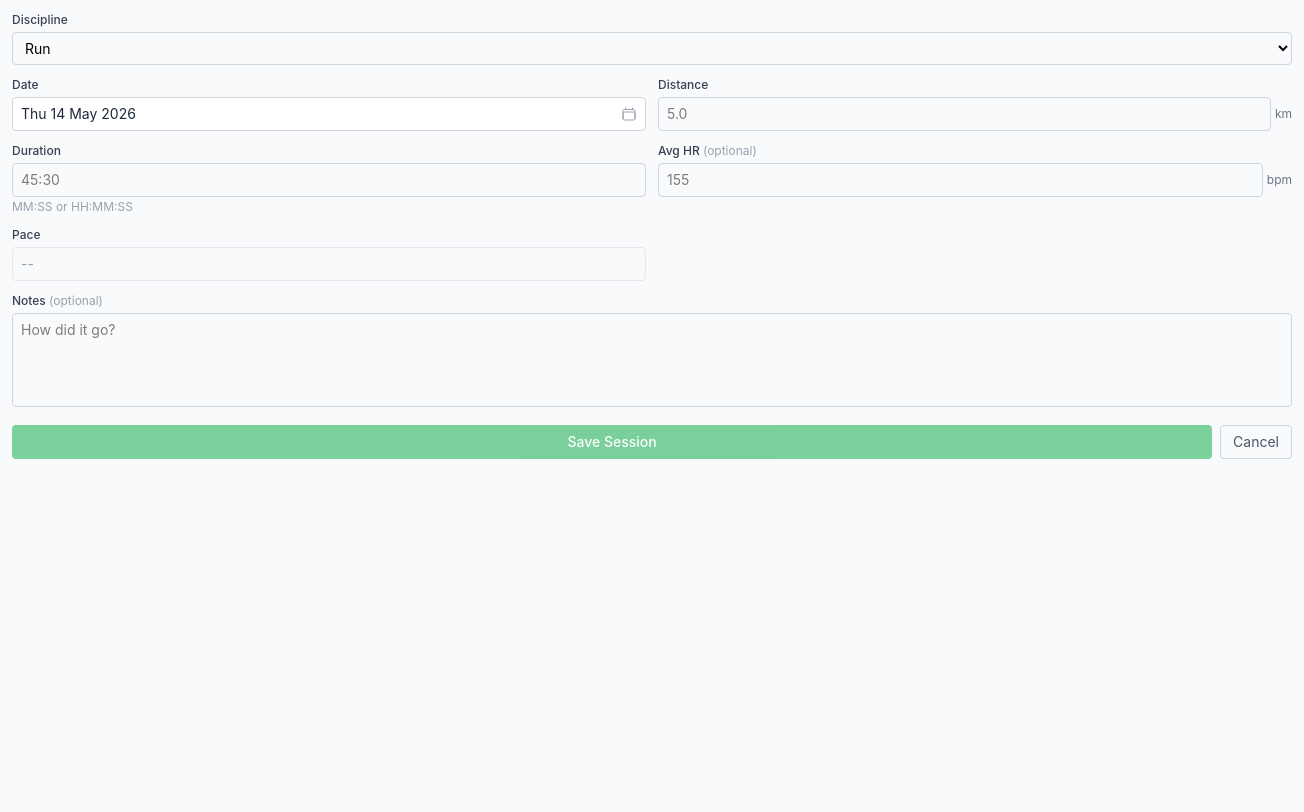
Scenario: RunEntryForm — gym discipline exercise entry › can remove an exercise from the inline list
This screenshot has width=1304, height=812.
Step 1. Select "Gym" in the dropdown labelled "Discipline" → (652, 48), box [12, 32, 1292, 65]
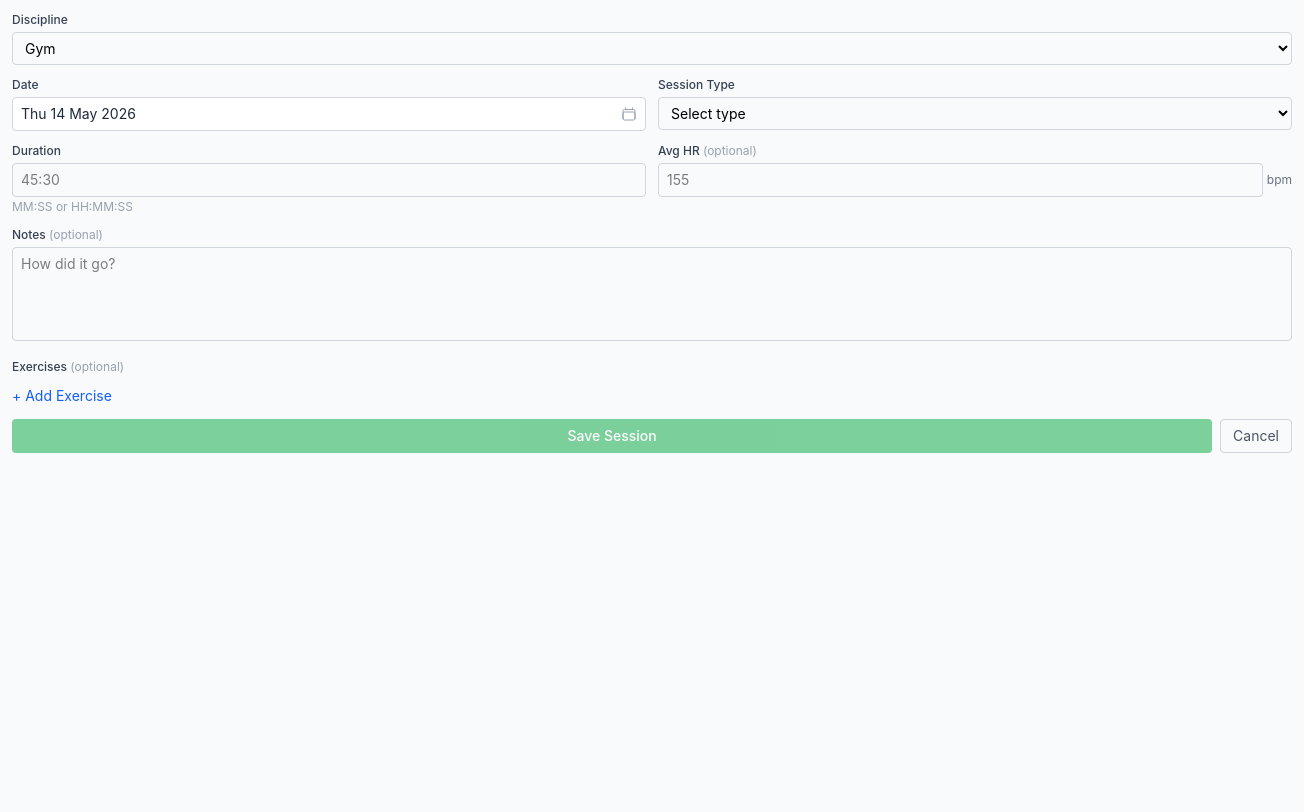
Add an exercise
Step 2. Click the button "+ Add Exercise" → (62, 396), box [12, 386, 112, 406]
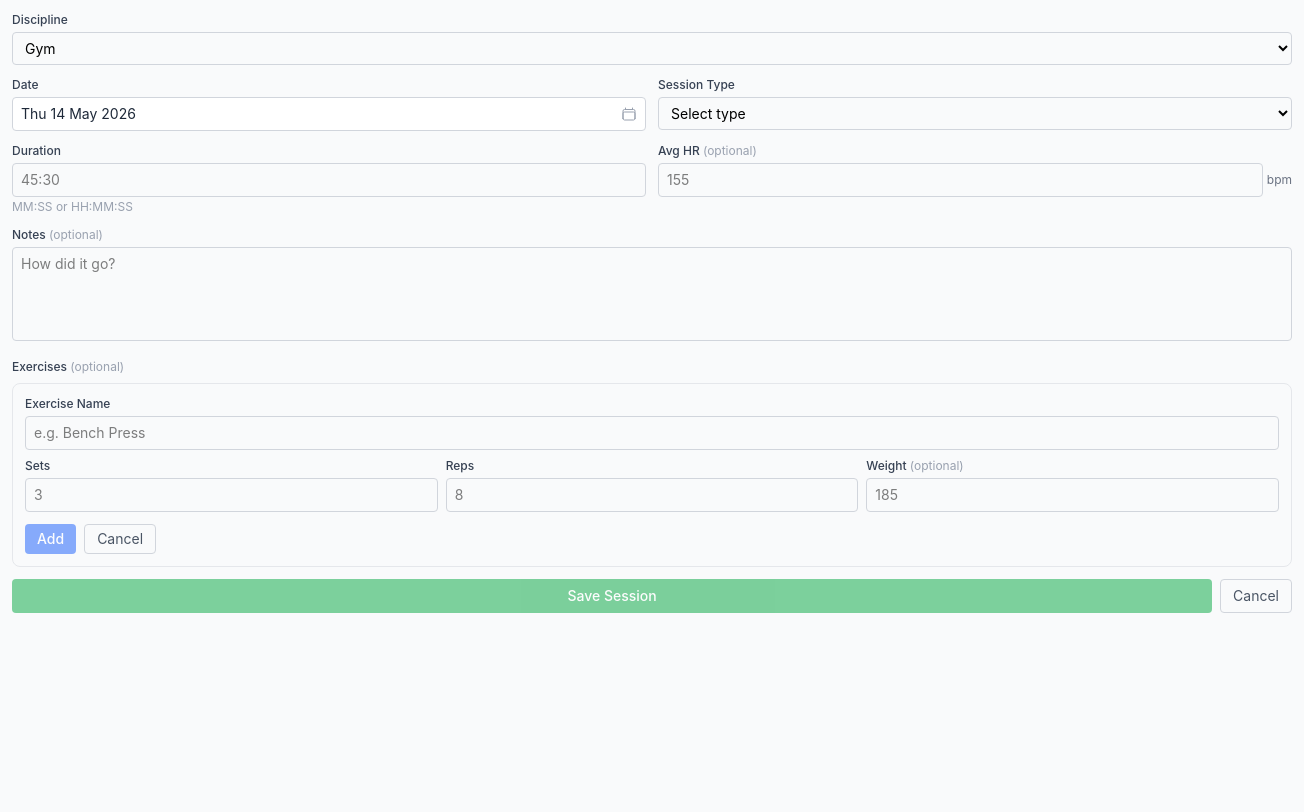
Step 3. Type "Squat" into the field with placeholder "e.g. Bench Press" → (652, 433), box [25, 416, 1279, 450]
Step 4. Type "4" into the number field with placeholder "3" → (231, 495), box [25, 478, 438, 512]
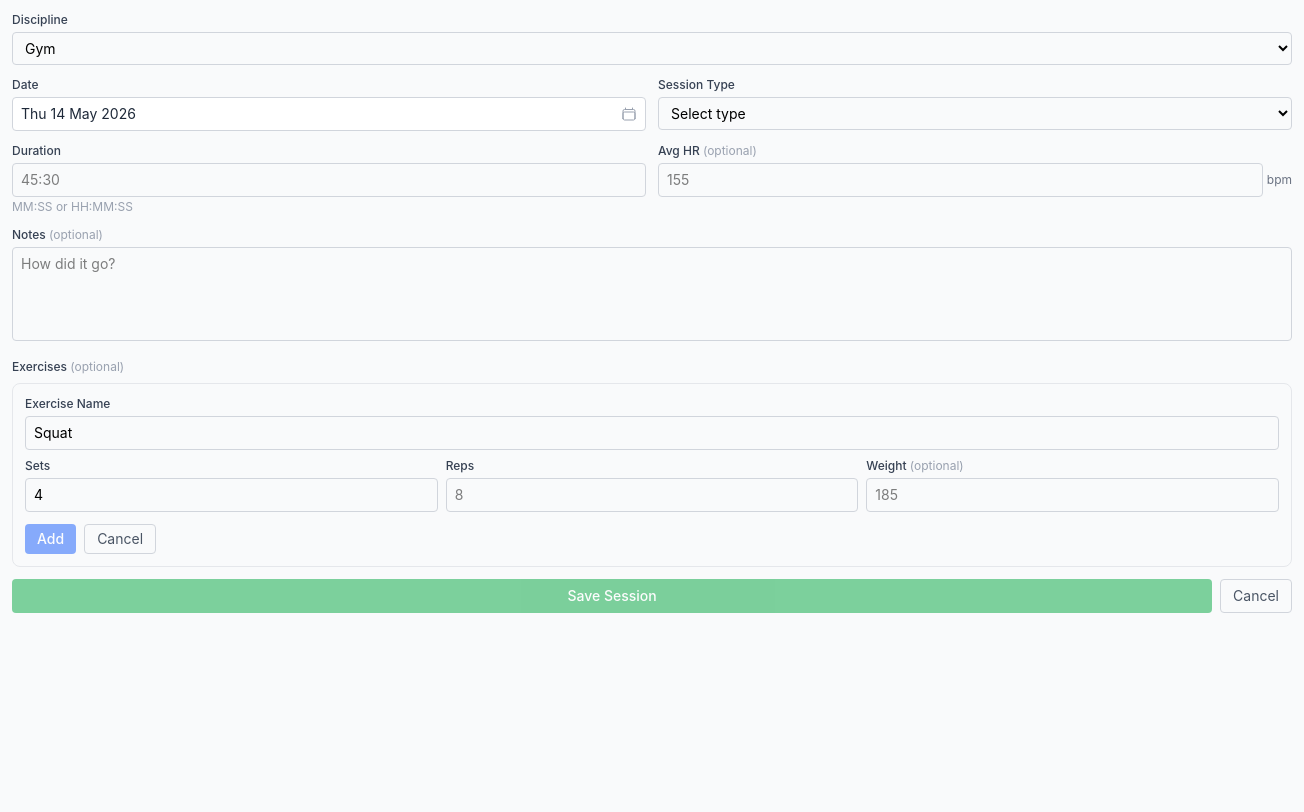
Step 5. Type "12" into the number field with placeholder "8" → (652, 495), box [446, 478, 858, 512]
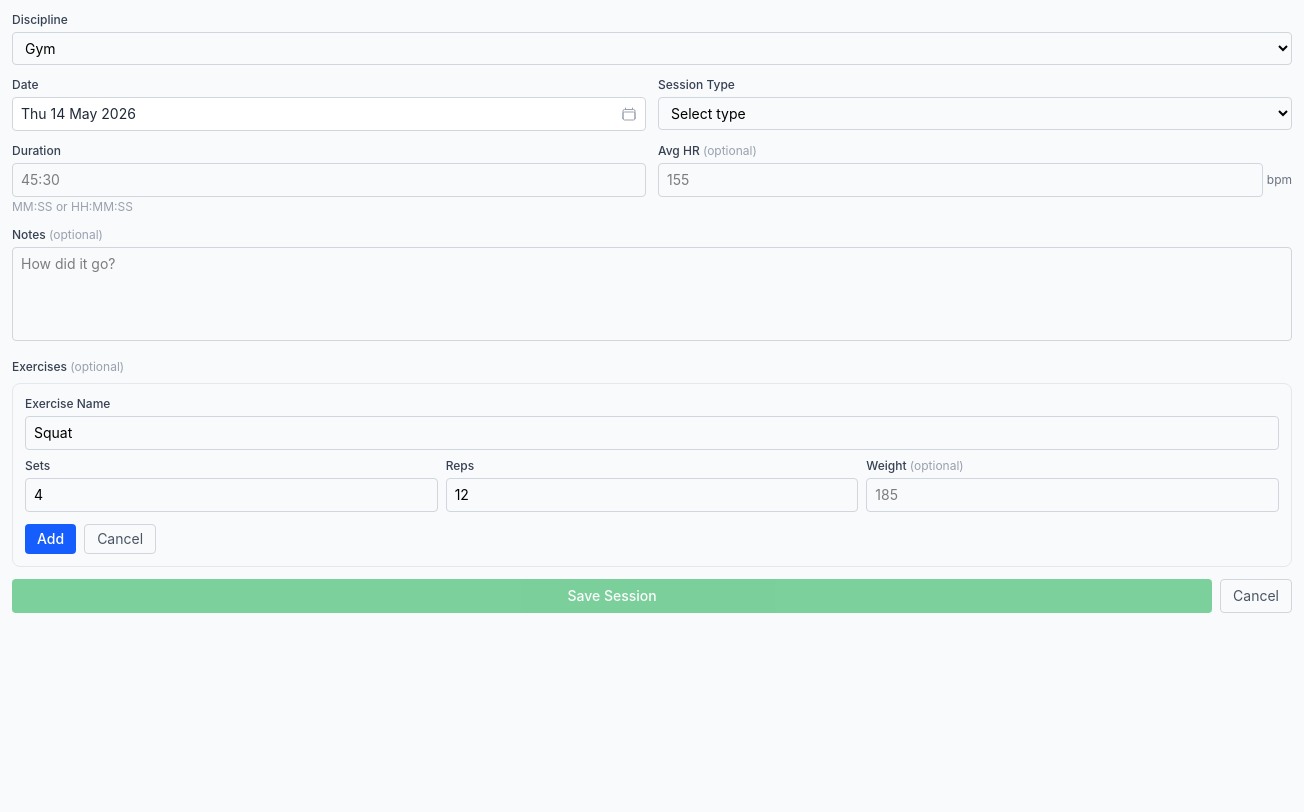
Step 6. Click the button "Add" → (51, 539), box [25, 524, 76, 554]
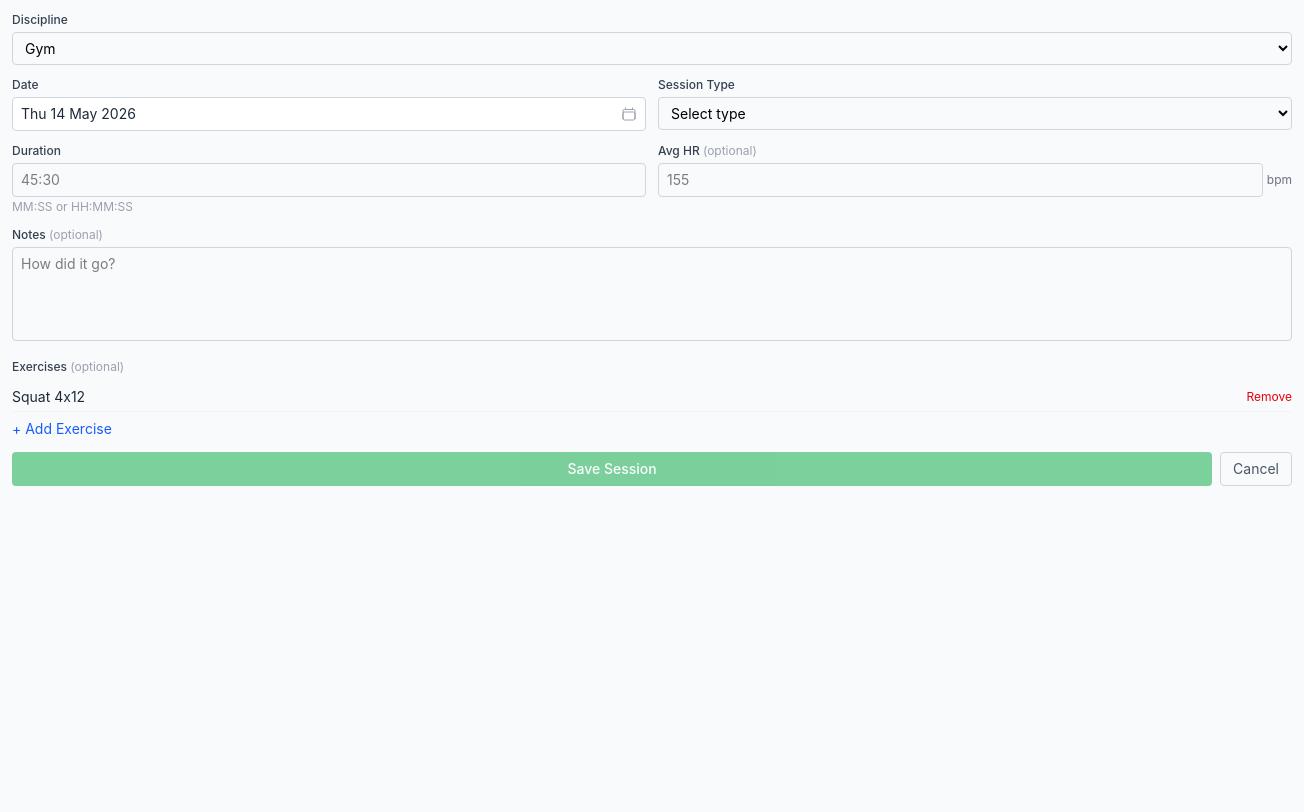
Check: the text "Squat 4x12" is shown, box [12, 387, 85, 407]
Remove it
Step 7. Click the button "Remove" → (1269, 397), box [1246, 389, 1292, 405]
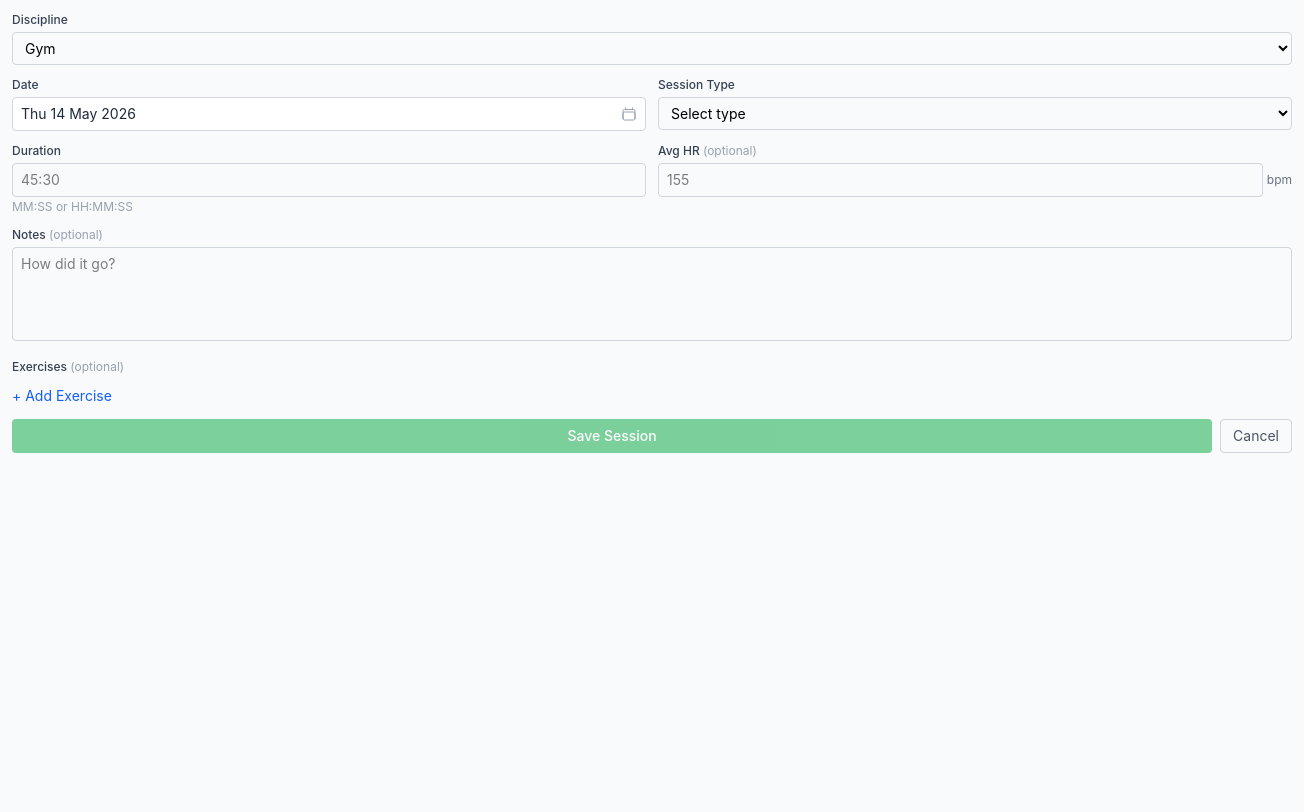
Check: the text "Squat 4x12" is gone
